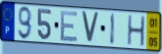5: (36, 7, 53, 42)
9: (17, 5, 34, 42)
E: (60, 10, 79, 43)
H: (126, 15, 146, 49)
I: (109, 12, 116, 48)
V: (80, 10, 101, 45)
